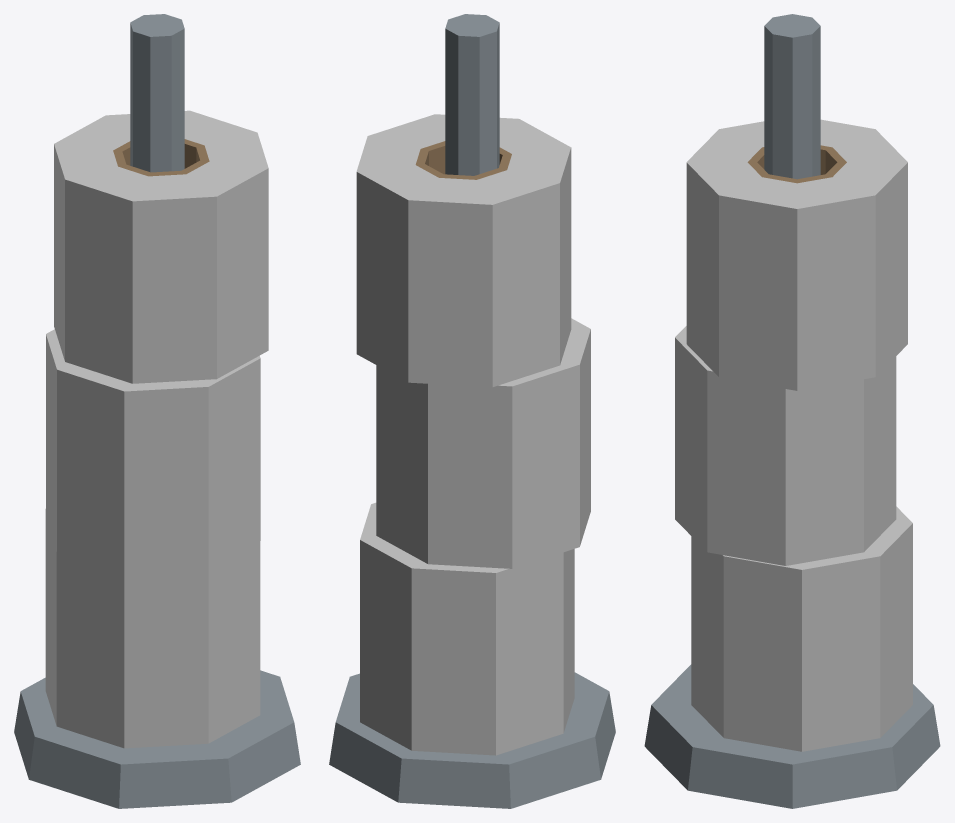
The model's file is SM_Item_ToiletRoll_03.fbx.
3 renders of one model, left to right at view 1: azimuth 30°, elevation 25°; view 2: azimuth 150°, elevation 25°; view 3: azimuth 270°, elevation 25°, orthographic.
Visible parts, largest first — view 1: SM_Item_ToiletRoll_03; view 2: SM_Item_ToiletRoll_03; view 3: SM_Item_ToiletRoll_03.
Boxes of the visible parts, <box> form: SM_Item_ToiletRoll_03: <box>14,14,300,808</box>; SM_Item_ToiletRoll_03: <box>329,14,615,808</box>; SM_Item_ToiletRoll_03: <box>644,14,940,808</box>.
Size of the model in its own units: 20.84 by 55.97 by 20.84.
